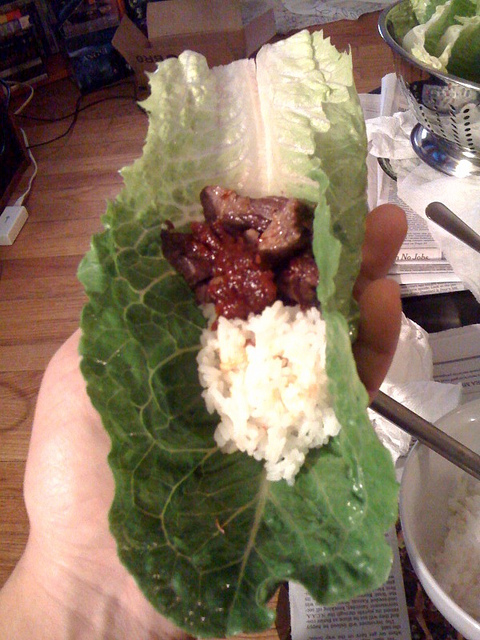chopped lettuce: (88, 51, 417, 640), (397, 5, 480, 73)
plain rice: (195, 313, 349, 482)
